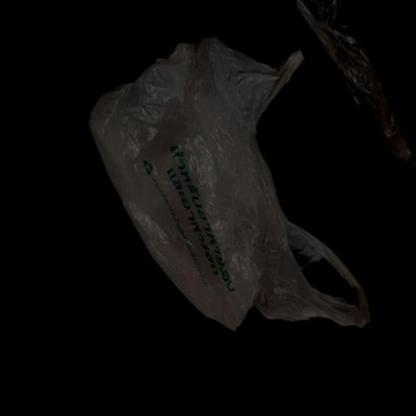Plastic Bag: (86, 38, 370, 334)
